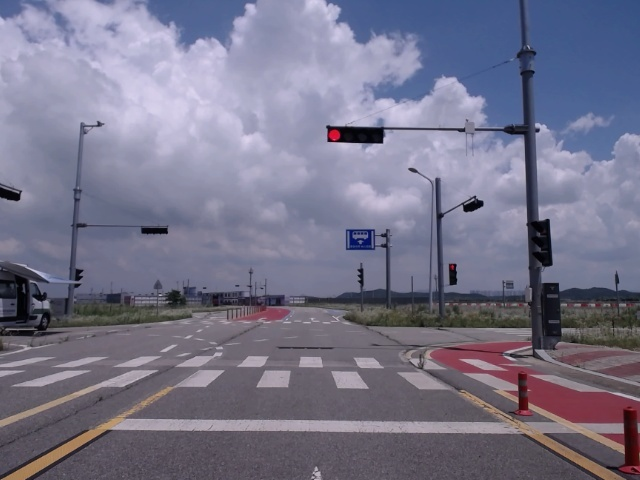red_4: (328, 128, 383, 143)
